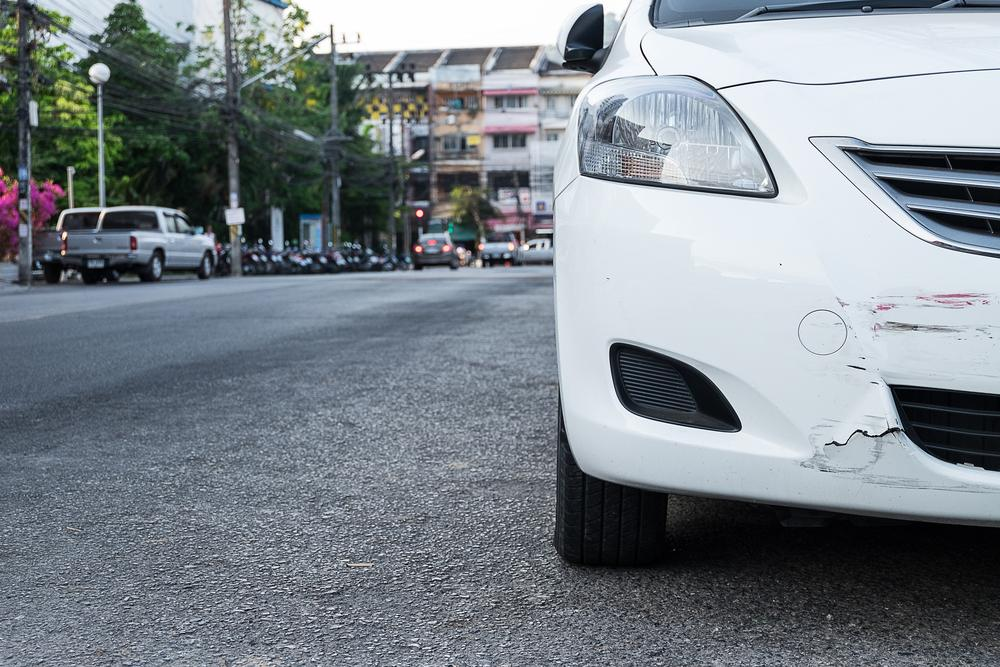crack: (824, 426, 904, 447)
scratch: (808, 289, 1000, 444), (798, 434, 1000, 497)
